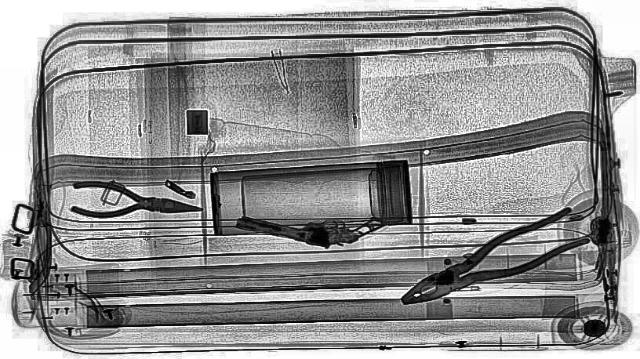Gun: (230, 194, 388, 254)
Pliers: (374, 205, 614, 315), (60, 179, 210, 226)
